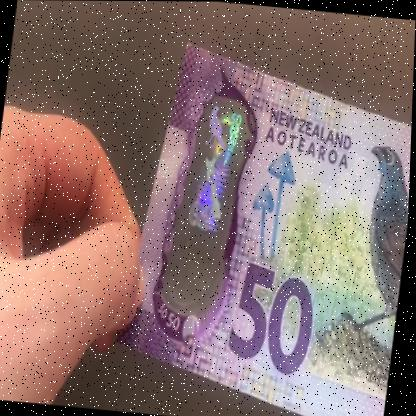50B: (172, 101, 245, 292)
